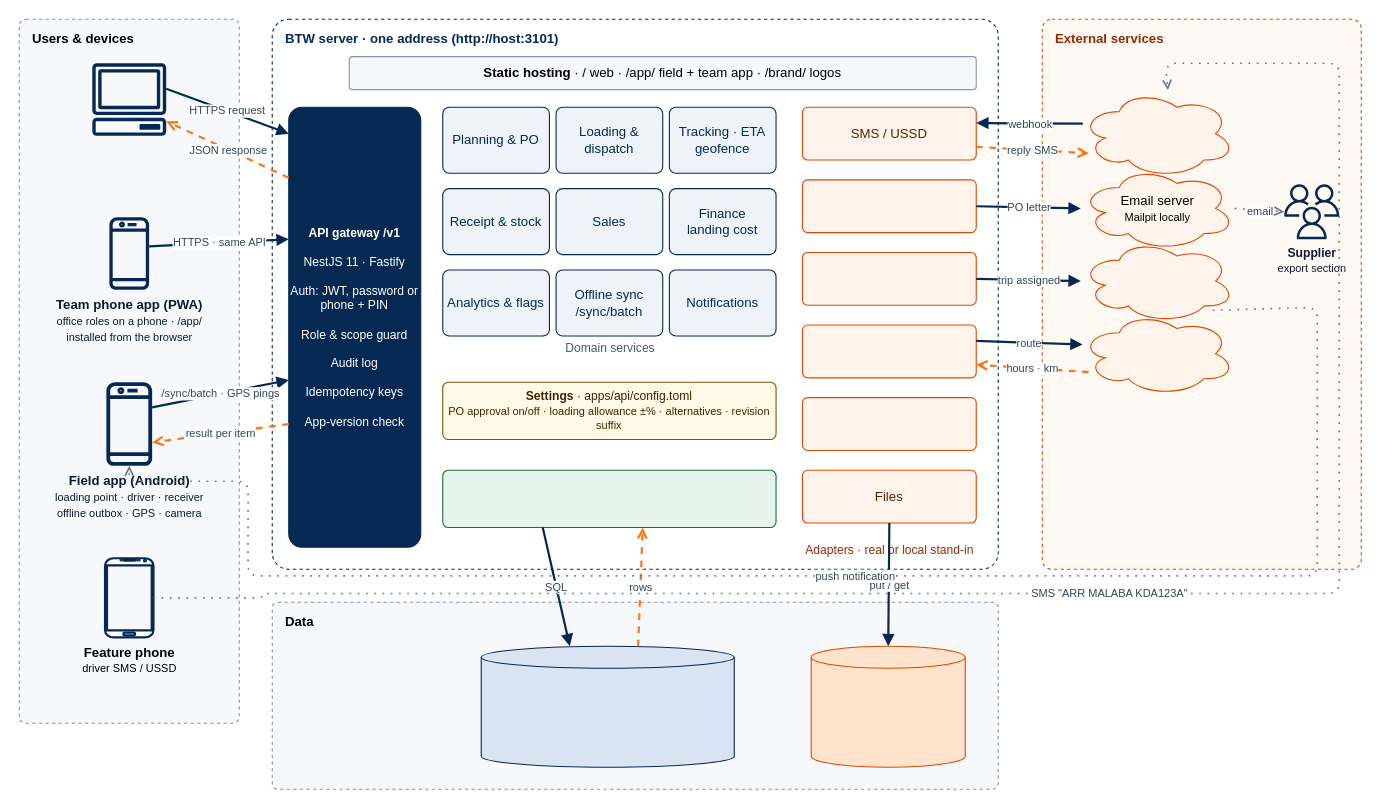
This 1381x809 diagram has some shape labels left out. Each missing label, with the centre of its shape:
Africa's Talking SMS · USSD: point (1157, 133)
Email (SMTP): point (888, 206)
File store photos · signatures · PDFs: point (887, 706)
Firebase FCM push: point (1157, 280)
Office web app directors · planners · truck planners fleet · accounts · admin: point (129, 99)
OSRM road routing: point (1157, 353)
PDF letters (Typst): point (888, 423)
PostgreSQL 17 + PostGIS 36 tables · checkpoints & GPS as geography · audit: point (607, 706)
Push (FCM): point (888, 278)
Routing (OSRM): point (888, 351)
Shared business rules rules.ts — same code in server, web & field: point (609, 498)
